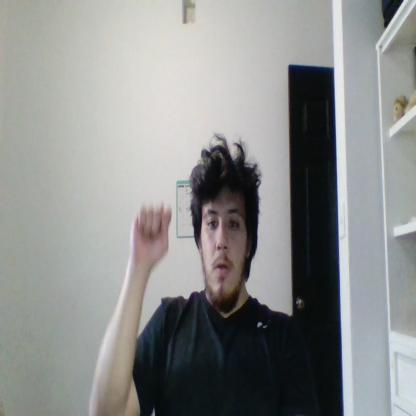T: (130, 199, 172, 263)
